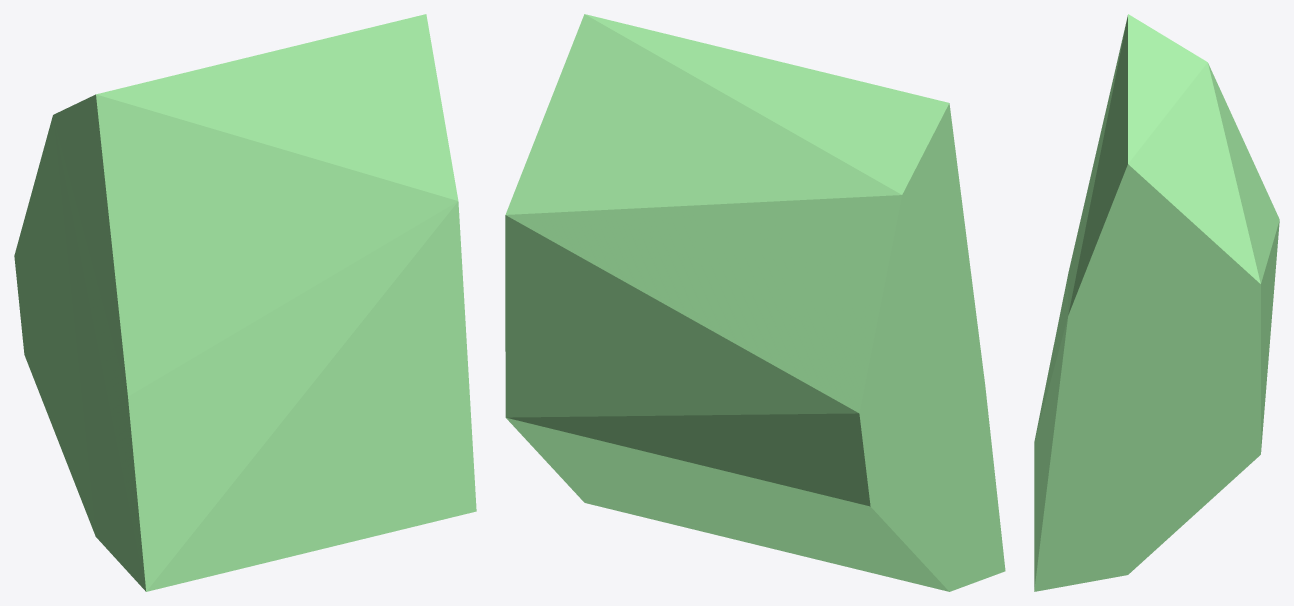
File: dxxx_Lp21_respondable_PSM1_coll_1.dae
The picture shows the model from 3 angles, left to right: view 1: azimuth 30°, elevation 25°; view 2: azimuth 150°, elevation 25°; view 3: azimuth 270°, elevation 25°; orthographic projection. The views are drawn at different scales.
Visible parts, largest first — view 1: Node_000001D818CBB270; view 2: Node_000001D818CBB270; view 3: Node_000001D818CBB270.
Part boxes in pixels (<box>): Node_000001D818CBB270: <box>14,14,476,591</box>; Node_000001D818CBB270: <box>505,14,1005,591</box>; Node_000001D818CBB270: <box>1034,14,1279,591</box>.
Size of the model in its own units: 0.013 by 0.0173 by 0.009.
